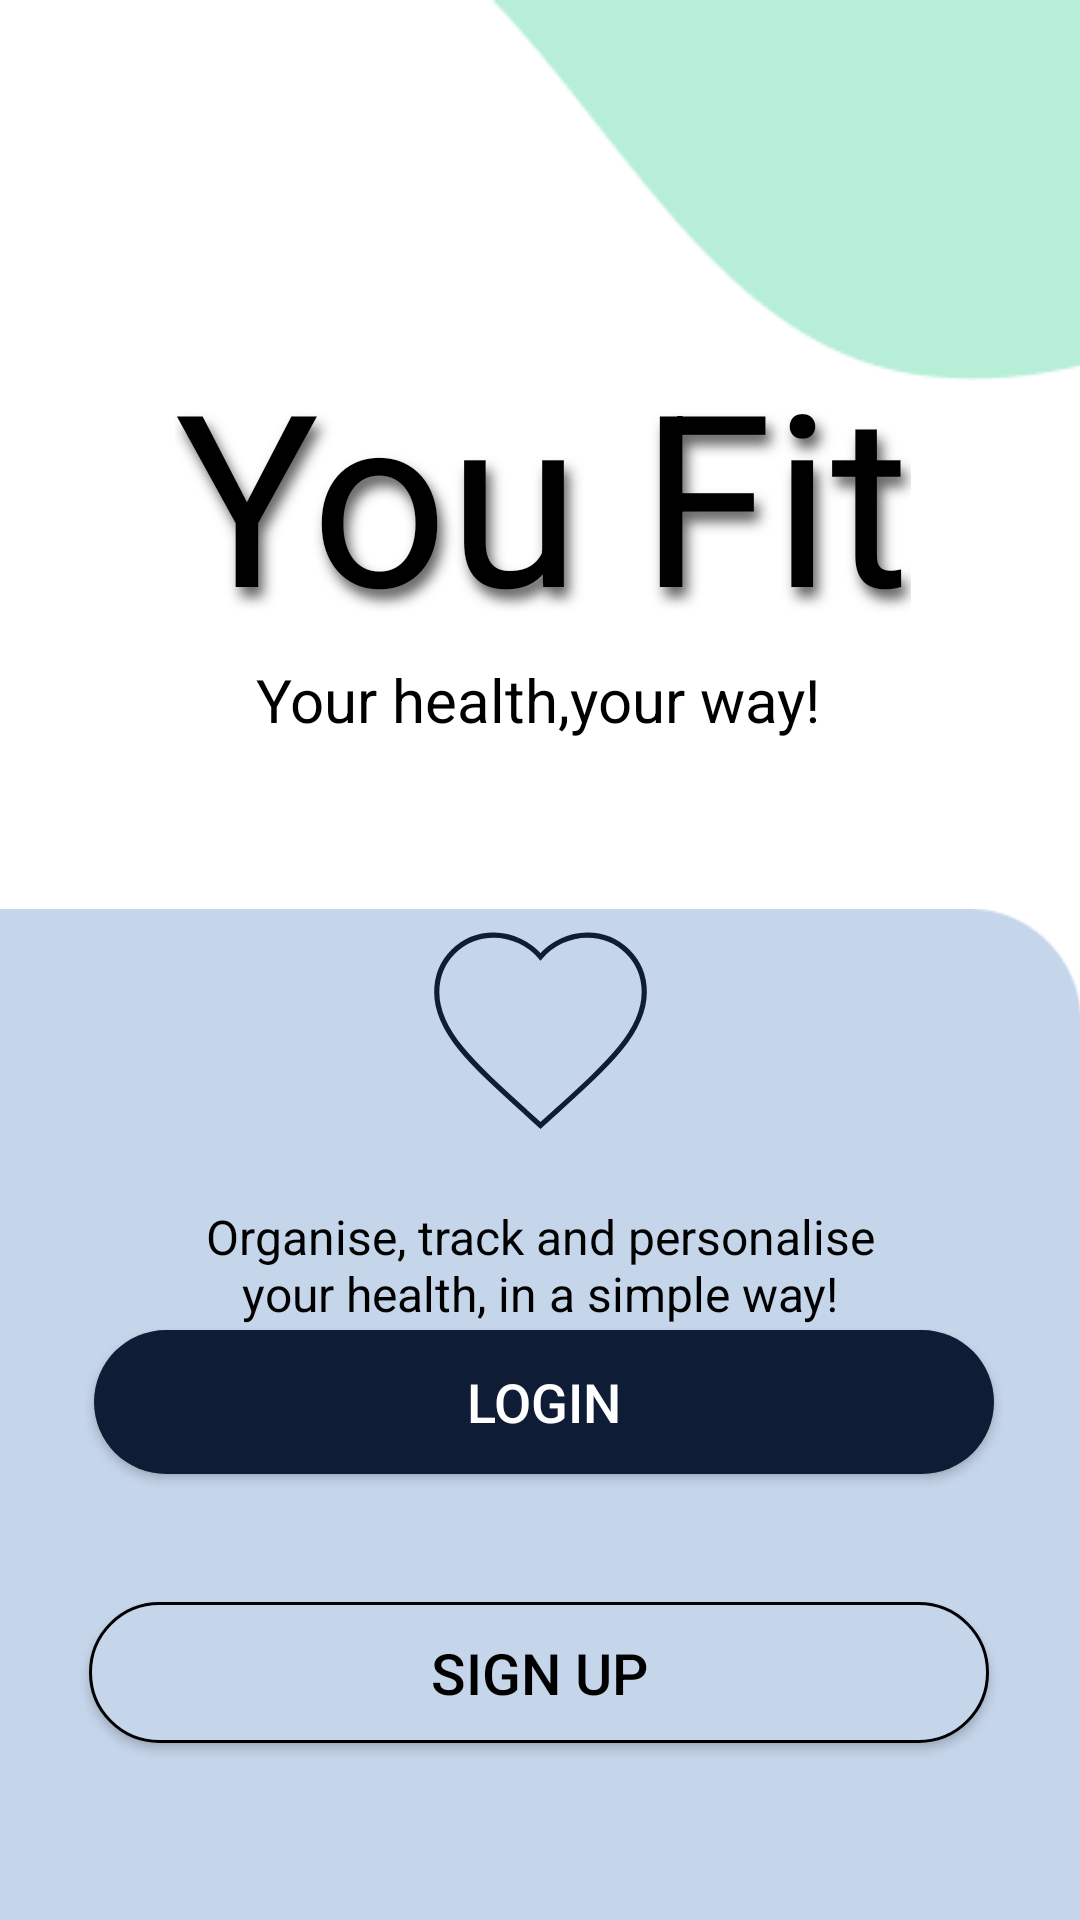

Icons on this 1080px×1920px Android screen, each with its box as [left=x1, top=y1, right=x2, bottom=y2]:
heart: [left=434, top=932, right=647, bottom=1129]
